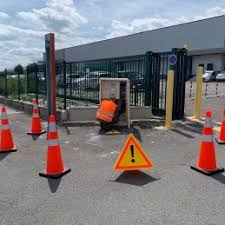obstacle: (113, 131, 158, 178), (45, 113, 69, 182), (197, 111, 217, 180), (27, 96, 48, 137), (1, 106, 17, 153)
